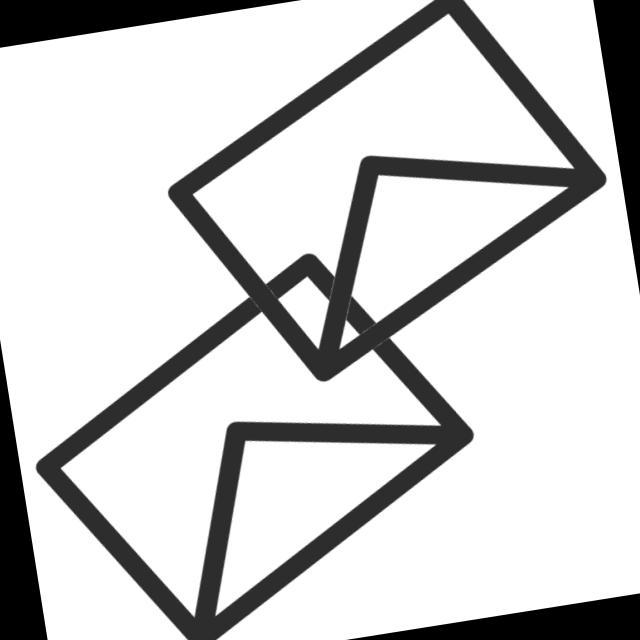letter: (136, 1, 639, 409), (20, 226, 491, 640)
